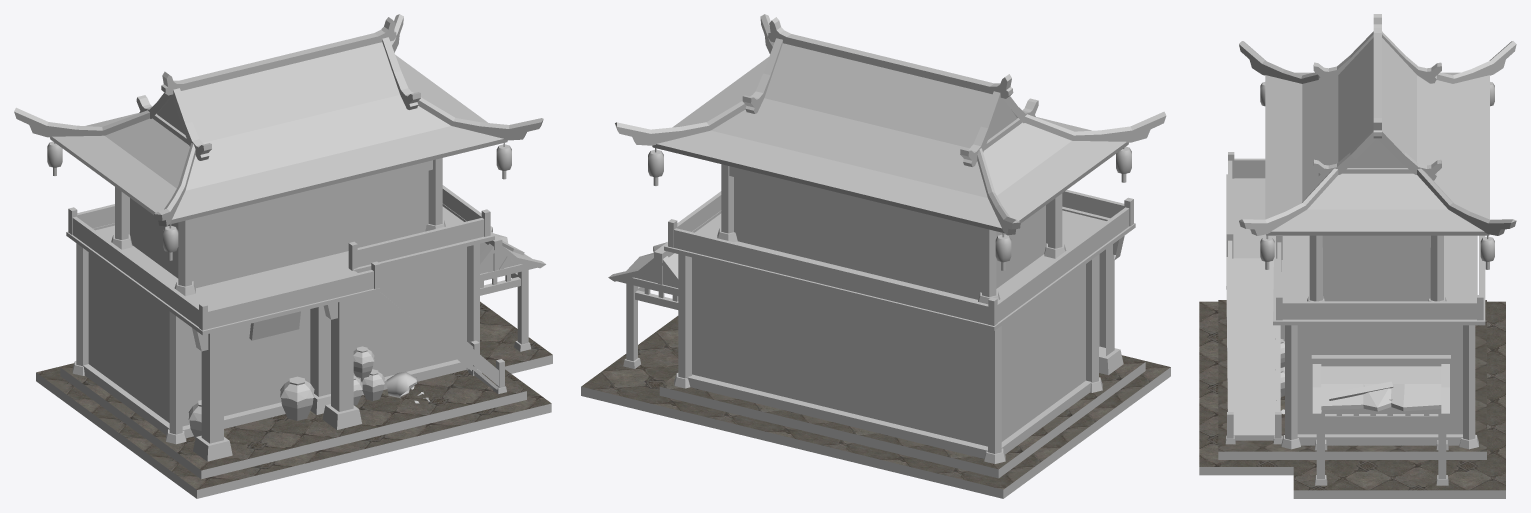
Rendered from s7_3d_jz_jiuguan.FBX.
The picture shows the model from 3 angles, left to right: view 1: azimuth 30°, elevation 25°; view 2: azimuth 150°, elevation 25°; view 3: azimuth 270°, elevation 25°; orthographic projection. The views are drawn at different scales.
Visible parts, largest first — view 1: T_s7_3d_jz_shangpu_01, T_s7_3d_jz_shangpu_09, s7_3d_wj_jiutanzi, XSC_YaoPu_paizi01; view 2: T_s7_3d_jz_shangpu_01, T_s7_3d_jz_shangpu_09; view 3: T_s7_3d_jz_shangpu_01, T_s7_3d_jz_shangpu_09.
Part boxes in pixels (x1,y1,x2,y2): T_s7_3d_jz_shangpu_01: [14, 14, 552, 498]; T_s7_3d_jz_shangpu_09: [36, 301, 552, 489]; s7_3d_wj_jiutanzi: [188, 346, 430, 438]; XSC_YaoPu_paizi01: [249, 311, 300, 340]; T_s7_3d_jz_shangpu_01: [581, 14, 1170, 498]; T_s7_3d_jz_shangpu_09: [581, 316, 1170, 489]; T_s7_3d_jz_shangpu_01: [1199, 14, 1516, 498]; T_s7_3d_jz_shangpu_09: [1199, 300, 1505, 490].
Size of the model in its own units: 592 by 451 by 398.
